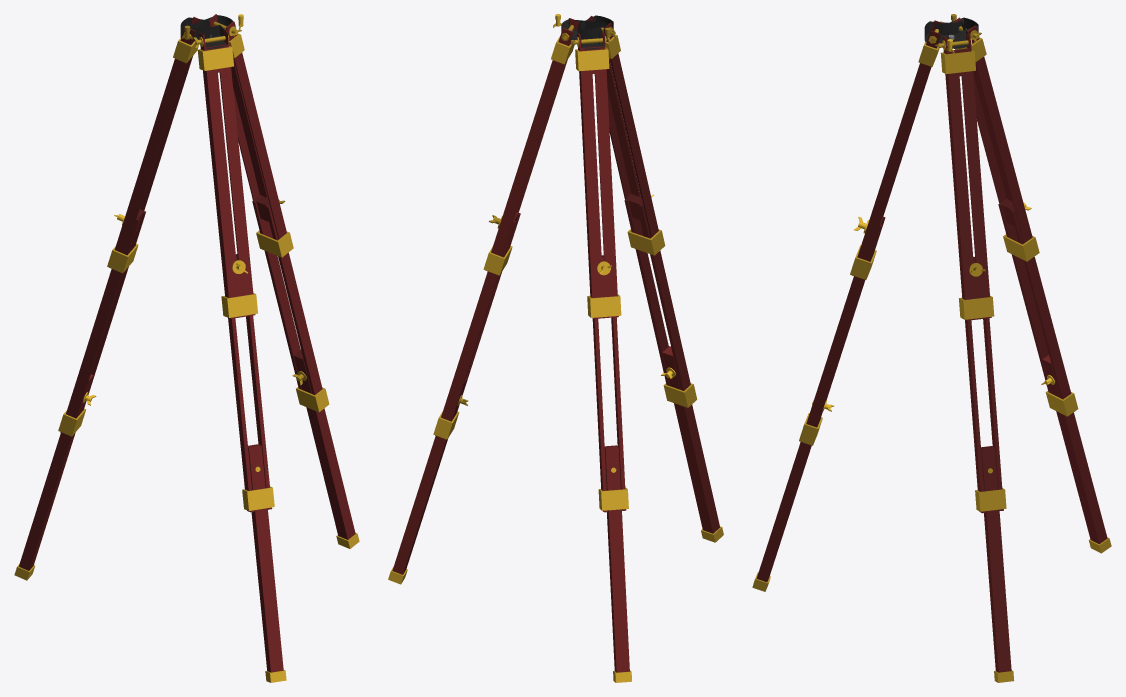
Rendered from camera_part2.fbx.
The picture shows the model from 3 angles, left to right: view 1: azimuth 30°, elevation 25°; view 2: azimuth 150°, elevation 25°; view 3: azimuth 270°, elevation 25°; orthographic projection.
Parts seen in each view (by area): view 1: Cube.044, Cube.053, Cube.054, Cube.046, Cube.061, Cube.062, Cube.055, Cube.045, Cube.063, Cylinder.054, Cube.051, Cube.049 (+3 smaller); view 2: Cube.061, Cube.044, Cube.045, Cube.063, Cube.053, Cube.046, Cube.054, Cube.062, Cube.055, Cylinder.054, Cube.066, Cube.067 (+3 smaller); view 3: Cube.053, Cube.061, Cube.062, Cube.055, Cube.044, Cube.063, Cube.054, Cube.045, Cube.046, Cylinder.054, Cube.059, Cube.058 (+2 smaller).
Part boxes in pixels (left/top/right/bottom): Cube.044: left=199, top=29, right=255, bottom=318; Cube.053: left=208, top=14, right=286, bottom=239; Cube.054: left=252, top=195, right=322, bottom=394; Cube.046: left=248, top=444, right=283, bottom=672; Cube.061: left=114, top=17, right=200, bottom=254; Cube.062: left=60, top=209, right=145, bottom=436; Cube.055: left=293, top=350, right=355, bottom=539; Cube.045: left=228, top=315, right=272, bottom=512; Cube.063: left=19, top=374, right=93, bottom=570; Cylinder.054: left=180, top=15, right=232, bottom=48; Cube.051: left=221, top=293, right=257, bottom=317; Cube.049: left=197, top=46, right=233, bottom=70; Cube.061: left=577, top=31, right=618, bottom=318; Cube.044: left=587, top=16, right=658, bottom=237; Cube.045: left=624, top=194, right=690, bottom=390; Cube.063: left=604, top=445, right=629, bottom=672; Cube.053: left=485, top=18, right=579, bottom=274; Cube.046: left=662, top=346, right=719, bottom=533; Cube.054: left=435, top=211, right=520, bottom=439; Cube.062: left=592, top=317, right=626, bottom=512; Cube.055: left=392, top=377, right=467, bottom=574; Cylinder.054: left=561, top=15, right=613, bottom=49; Cube.066: left=575, top=47, right=609, bottom=71; Cube.067: left=587, top=294, right=621, bottom=317; Cube.053: left=942, top=34, right=991, bottom=320; Cube.061: left=953, top=17, right=1032, bottom=243; Cube.062: left=998, top=198, right=1071, bottom=399; Cube.055: left=981, top=446, right=1011, bottom=672; Cube.044: left=852, top=20, right=942, bottom=278; Cube.063: left=1042, top=355, right=1107, bottom=544; Cube.054: left=965, top=318, right=1003, bottom=513; Cube.045: left=800, top=216, right=885, bottom=445; Cube.046: left=756, top=383, right=831, bottom=582; Cylinder.054: left=924, top=17, right=978, bottom=48; Cube.059: left=959, top=295, right=994, bottom=319; Cube.058: left=940, top=50, right=975, bottom=74.
Bounding box in the file's own units: 506 × 960 × 542.
